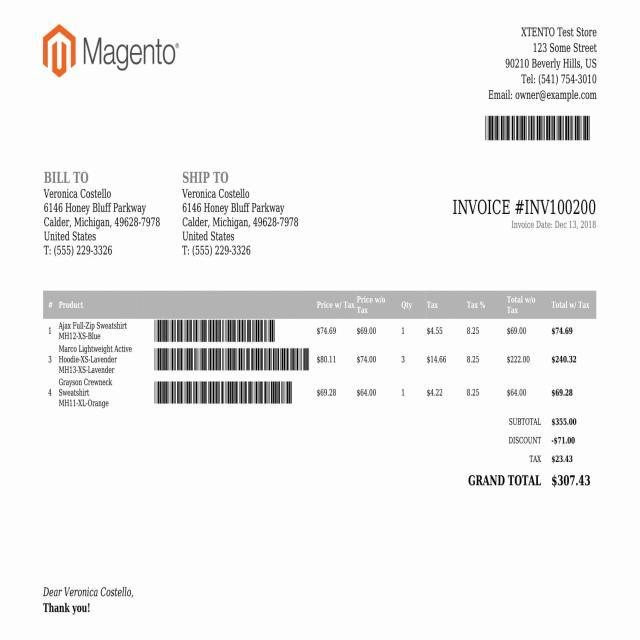customer_address: (41, 200, 162, 242)
customer_name: (40, 186, 117, 199)
invoice_date: (553, 219, 599, 233)
invoice_number: (514, 194, 600, 218)
invoice_subtotal: (546, 414, 595, 429)
invoice_total: (546, 472, 600, 489)
item_description: (55, 321, 136, 414)
item_quantity: (391, 322, 415, 411)
item_total_price: (501, 320, 538, 402)
item_unit_price: (313, 320, 342, 411)
supplier_address: (497, 42, 606, 70)
supplier_name: (515, 19, 600, 41)
tax_amount: (549, 451, 588, 465)
